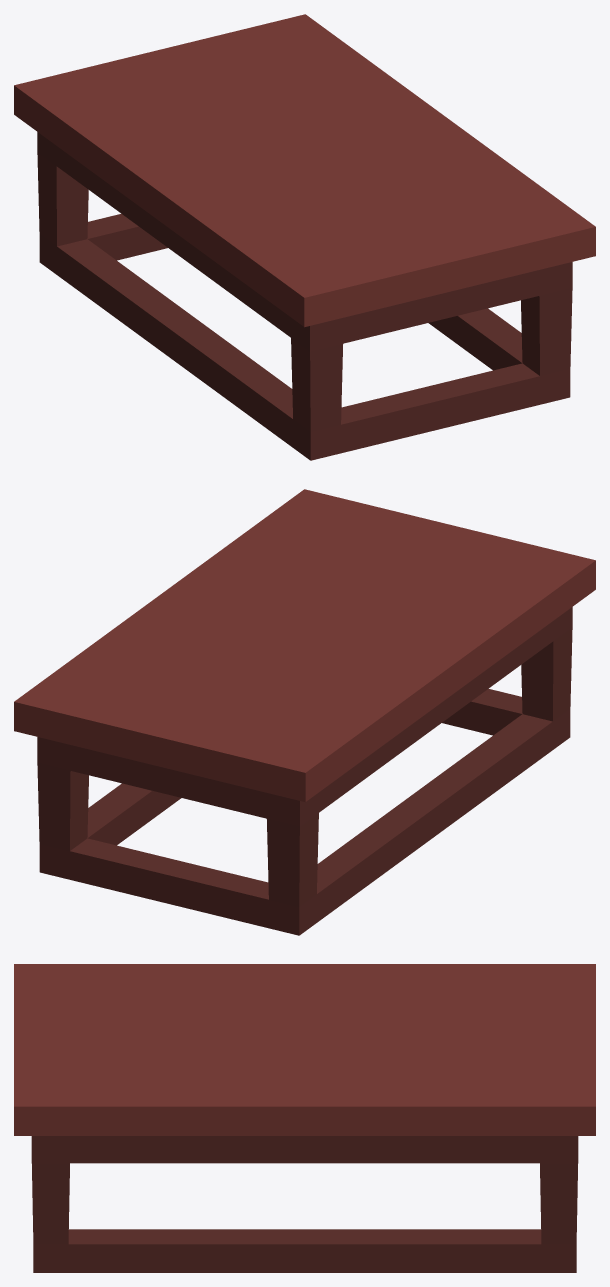
File: quaternius-furniture-coffeetable-2.glb
3 renders of one model, top to bottom at view 1: azimuth 30°, elevation 25°; view 2: azimuth 150°, elevation 25°; view 3: azimuth 270°, elevation 25°, orthographic.
Visible parts, largest first — view 1: Coffee Table 2; view 2: Coffee Table 2; view 3: Coffee Table 2.
Part boxes in pixels (x1=…): Coffee Table 2: x1=14, y1=14, x2=595, y2=460; Coffee Table 2: x1=14, y1=489, x2=595, y2=935; Coffee Table 2: x1=14, y1=964, x2=595, y2=1272.
Size of the model in its own units: 0.5888 by 0.3355 by 1.02.
